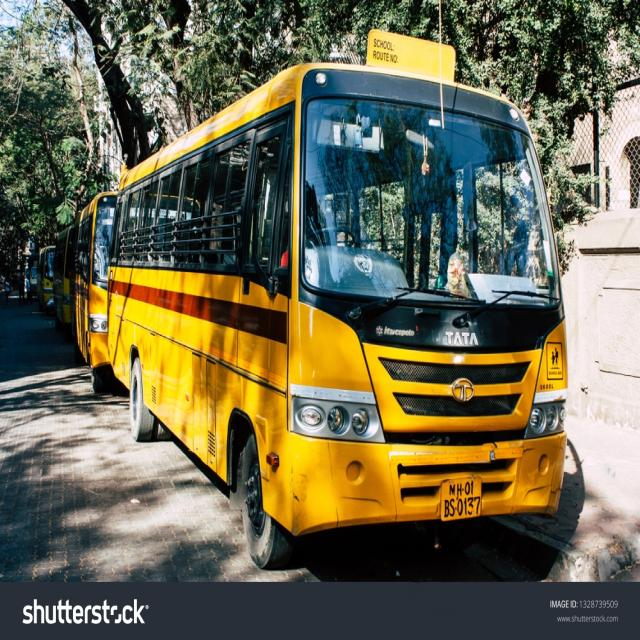bus: (108, 31, 568, 569)
